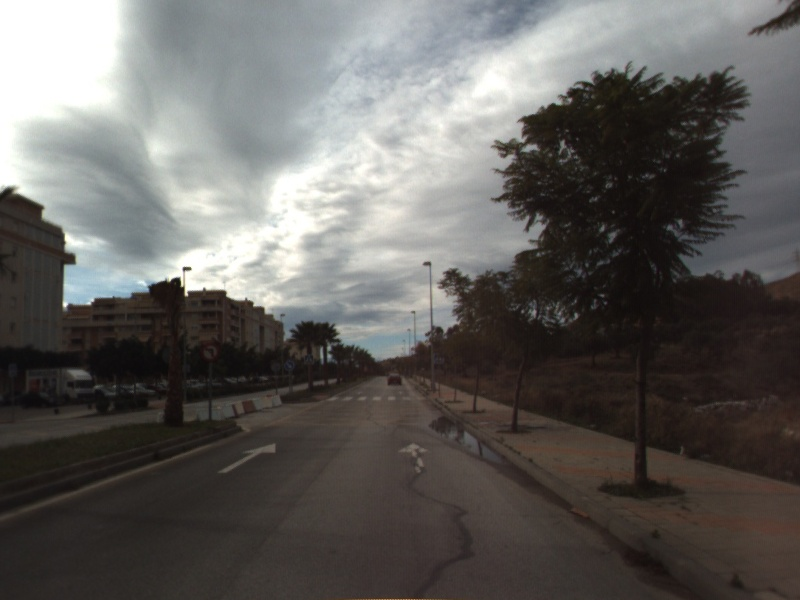STRAIGHT: (216, 441, 277, 475), (396, 440, 431, 477)
